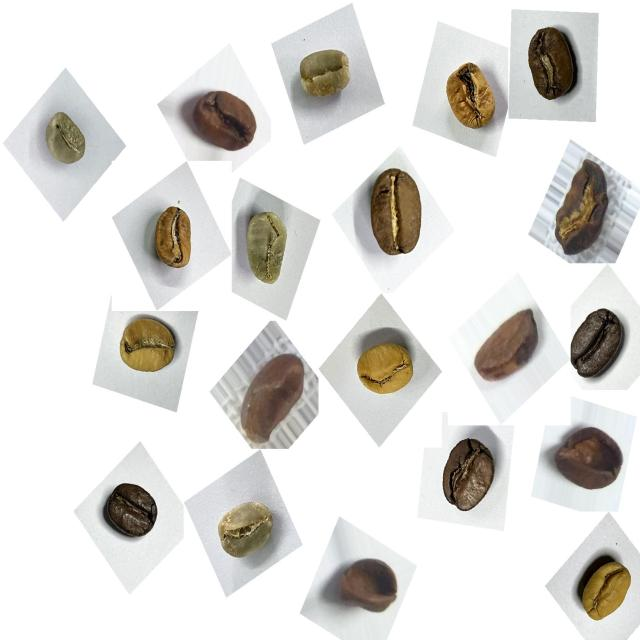bad: (542, 154, 618, 267), (235, 347, 312, 454), (544, 414, 629, 504), (469, 300, 545, 393), (183, 82, 264, 166), (329, 546, 405, 628)
dark: (428, 432, 504, 528), (560, 296, 634, 389), (100, 470, 170, 551)
green: (234, 200, 302, 298), (208, 490, 284, 573), (289, 38, 362, 116), (34, 103, 98, 179)
light: (566, 544, 638, 633), (436, 53, 506, 144), (110, 307, 187, 389), (345, 327, 420, 411), (144, 197, 206, 282)
medium: (354, 157, 438, 269), (514, 19, 590, 116)
